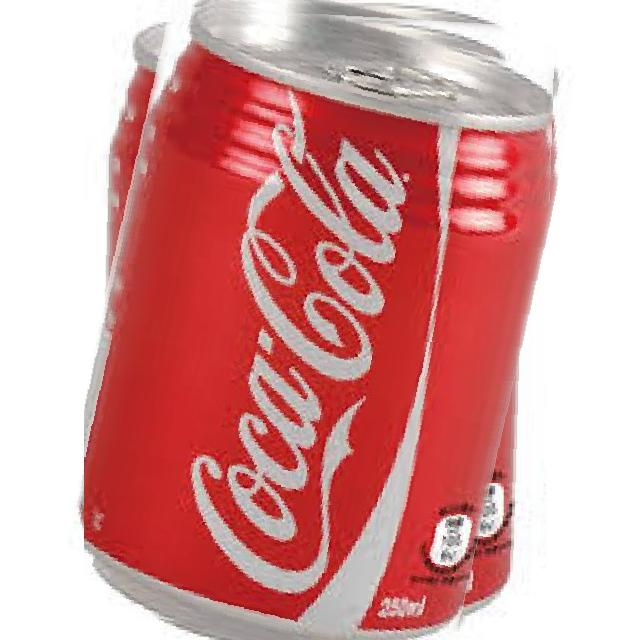recyclable: (84, 0, 555, 640)
